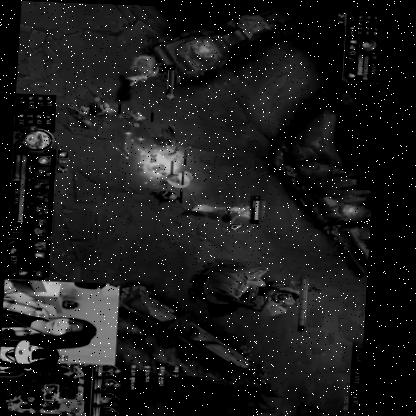streamer: (2, 280, 102, 351)
